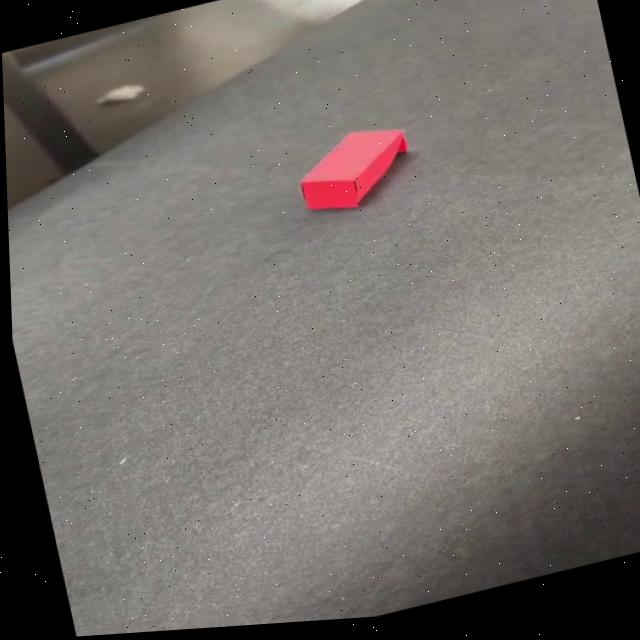red block: (287, 116, 418, 219)
